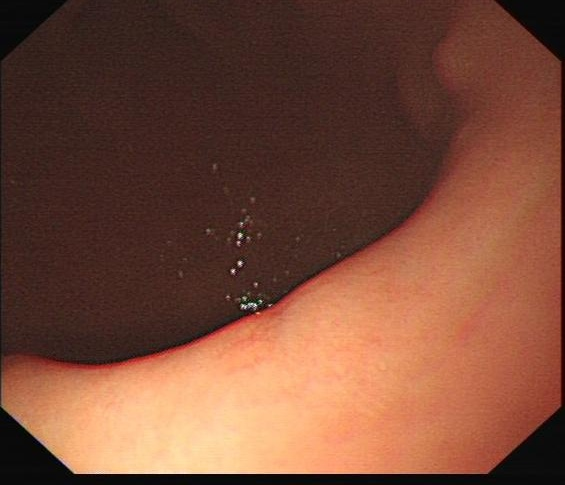Polyp: (421, 24, 483, 108)
